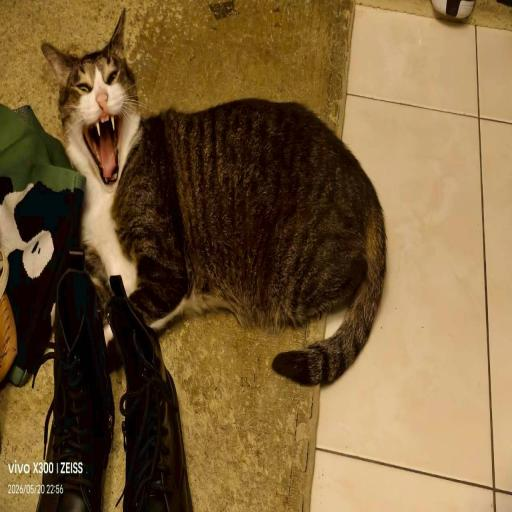cat: (59, 37, 385, 333)
